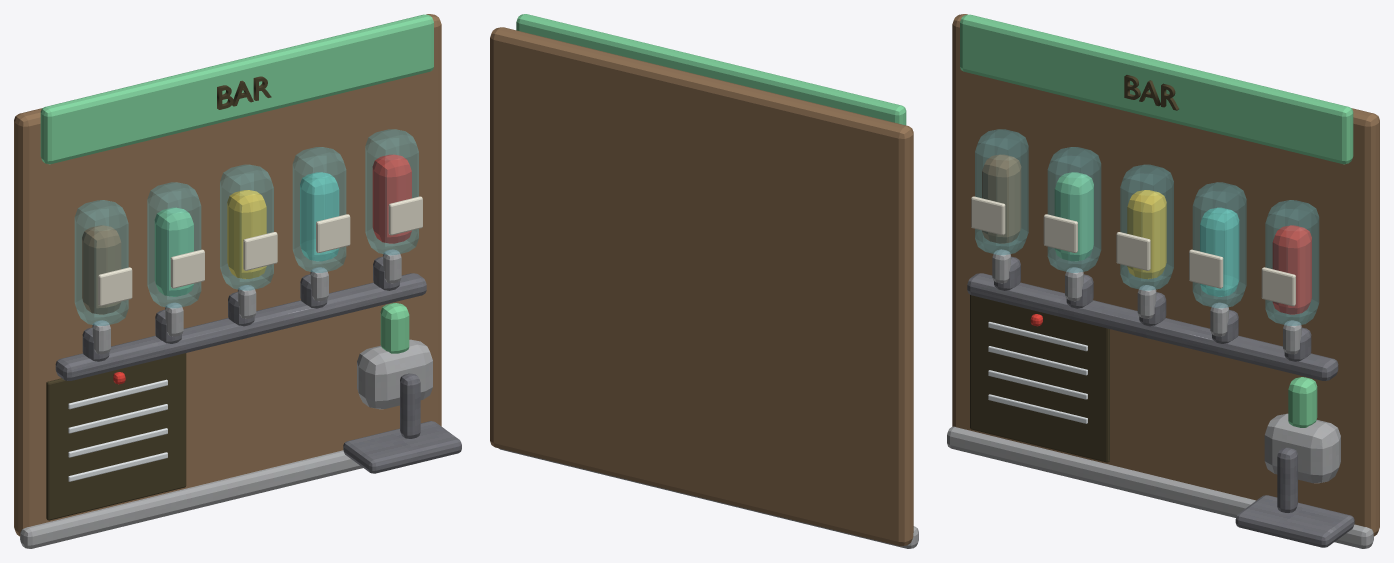
The model's file is decor_svc_drinks_board.glb.
3 renders of one model, left to right at view 1: azimuth 30°, elevation 25°; view 2: azimuth 150°, elevation 25°; view 3: azimuth 330°, elevation 25°, orthographic.
Parts seen in each view (by area): view 1: DEC_SvcDrinksBoard__Board_Back, DEC_SvcDrinksBoard__Header, DEC_SvcDrinksBoard__Tab_Board, DEC_SvcDrinksBoard__Optic_Rail, DEC_SvcDrinksBoard__Board_Trim, DEC_SvcDrinksBoard__Spirit_Bottle_2, DEC_SvcDrinksBoard__Spirit_Bottle_4, DEC_SvcDrinksBoard__Spirit_Bottle_1, DEC_SvcDrinksBoard__Spirit_Bottle_5, DEC_SvcDrinksBoard__Spirit_Bottle_3, DEC_SvcDrinksBoard__Drip_Tray, DEC_SvcDrinksBoard__Tap_Mount (+22 smaller); view 2: DEC_SvcDrinksBoard__Board_Back, DEC_SvcDrinksBoard__Header, DEC_SvcDrinksBoard__Board_Trim; view 3: DEC_SvcDrinksBoard__Board_Back, DEC_SvcDrinksBoard__Header, DEC_SvcDrinksBoard__Tab_Board, DEC_SvcDrinksBoard__Optic_Rail, DEC_SvcDrinksBoard__Board_Trim, DEC_SvcDrinksBoard__Spirit_Bottle_4, DEC_SvcDrinksBoard__Spirit_Bottle_2, DEC_SvcDrinksBoard__Spirit_Bottle_5, DEC_SvcDrinksBoard__Spirit_Bottle_1, DEC_SvcDrinksBoard__Spirit_Bottle_3, DEC_SvcDrinksBoard__Tap_Mount, DEC_SvcDrinksBoard__Drip_Tray (+22 smaller).
Boxes of the visible parts, left/top/right/bottom form: DEC_SvcDrinksBoard__Board_Back: left=14, top=14, right=441, bottom=536; DEC_SvcDrinksBoard__Header: left=40, top=14, right=433, bottom=164; DEC_SvcDrinksBoard__Tab_Board: left=46, top=353, right=186, bottom=520; DEC_SvcDrinksBoard__Optic_Rail: left=55, top=273, right=426, bottom=380; DEC_SvcDrinksBoard__Board_Trim: left=20, top=427, right=442, bottom=548; DEC_SvcDrinksBoard__Spirit_Bottle_2: left=147, top=182, right=201, bottom=308; DEC_SvcDrinksBoard__Spirit_Bottle_4: left=292, top=147, right=346, bottom=272; DEC_SvcDrinksBoard__Spirit_Bottle_1: left=74, top=200, right=128, bottom=325; DEC_SvcDrinksBoard__Spirit_Bottle_5: left=365, top=129, right=418, bottom=255; DEC_SvcDrinksBoard__Spirit_Bottle_3: left=220, top=164, right=273, bottom=290; DEC_SvcDrinksBoard__Drip_Tray: left=343, top=421, right=461, bottom=473; DEC_SvcDrinksBoard__Tap_Mount: left=357, top=339, right=432, bottom=409; DEC_SvcDrinksBoard__Board_Back: left=490, top=27, right=913, bottom=546; DEC_SvcDrinksBoard__Header: left=516, top=14, right=906, bottom=125; DEC_SvcDrinksBoard__Board_Trim: left=498, top=448, right=918, bottom=548; DEC_SvcDrinksBoard__Board_Back: left=952, top=14, right=1379, bottom=536; DEC_SvcDrinksBoard__Header: left=960, top=14, right=1353, bottom=164; DEC_SvcDrinksBoard__Tab_Board: left=970, top=294, right=1109, bottom=462; DEC_SvcDrinksBoard__Optic_Rail: left=967, top=273, right=1338, bottom=380; DEC_SvcDrinksBoard__Board_Trim: left=947, top=426, right=1373, bottom=548; DEC_SvcDrinksBoard__Spirit_Bottle_4: left=1192, top=182, right=1246, bottom=308; DEC_SvcDrinksBoard__Spirit_Bottle_2: left=1047, top=147, right=1101, bottom=272; DEC_SvcDrinksBoard__Spirit_Bottle_5: left=1265, top=200, right=1319, bottom=325; DEC_SvcDrinksBoard__Spirit_Bottle_1: left=975, top=129, right=1028, bottom=255; DEC_SvcDrinksBoard__Spirit_Bottle_3: left=1120, top=164, right=1173, bottom=290; DEC_SvcDrinksBoard__Tap_Mount: left=1264, top=413, right=1340, bottom=483; DEC_SvcDrinksBoard__Drip_Tray: left=1235, top=495, right=1354, bottom=547.
Size of the model in its own units: 1.28 by 1.27 by 0.23.
Materials: 11 (2 with a texture image).
